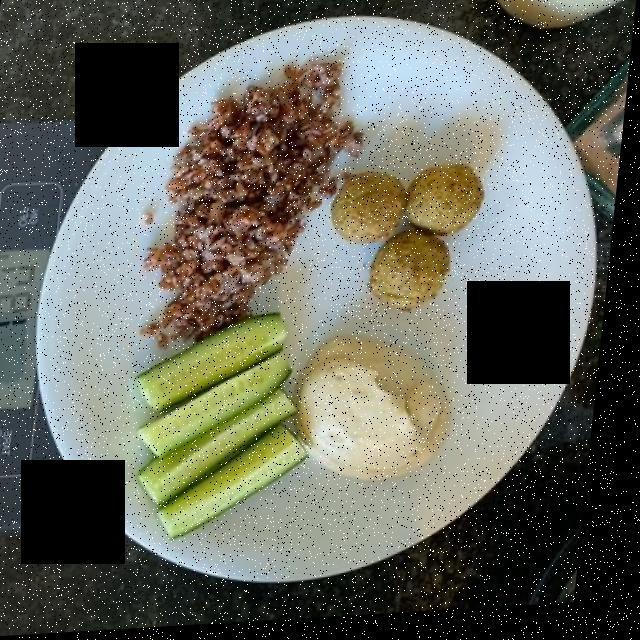cucumber: (142, 328, 307, 527)
falafel-balls: (343, 172, 483, 304)
hummus: (306, 343, 467, 488)
rice: (146, 75, 350, 349)
